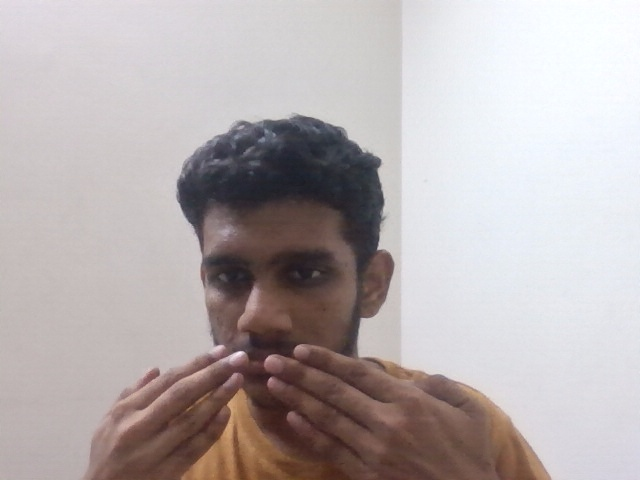thanks: (63, 301, 510, 474)
